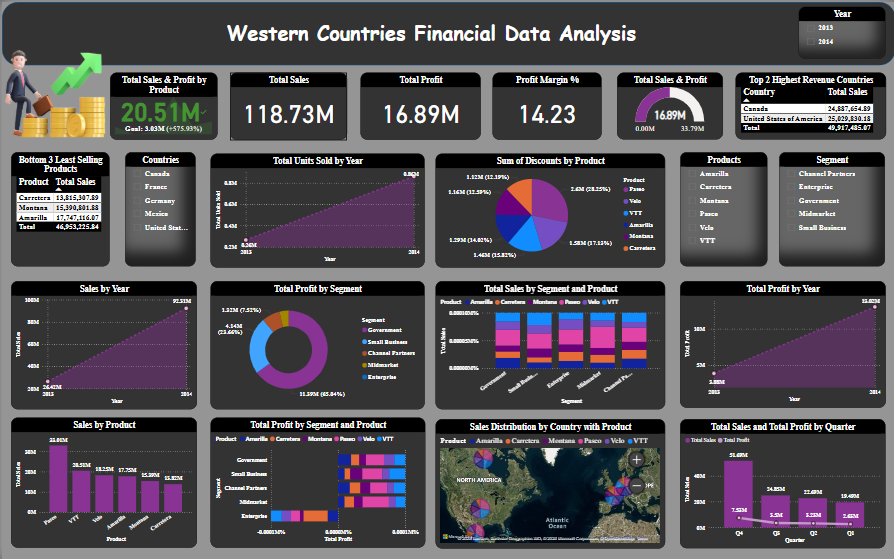

The dashboard page shown, as its layout file describes it:
{"tool":"powerbi","page":{"name":"Dashboard ","canvas":[1920,1200],"ordinal":0},"visuals":[{"type":"shape","title":"Y","box":[0,0,1921.2,136.4],"z":0},{"type":"textbox","box":[386.2,27.6,1072.4,110.3],"z":1000},{"type":"image","box":[0,67.7,232.3,254.8],"z":2000},{"type":"clusteredColumnChart","title":"Sales by Product","fields":{"Y":["financialdata_salesdata.Total Sales"],"Category":["financialdata_salesdata.Product"]},"box":[18,894,400,280],"z":3000},{"type":"lineChart","title":"Sales by Year","fields":{"Category":["financialdata_salesdata.Year"],"Y":["financialdata_salesdata.Total Sales"]},"box":[18,600,400,276],"z":4000},{"type":"lineClusteredColumnComboChart","fields":{"Category":["financialdata_salesdata.Quarter"],"Y":["financialdata_salesdata.Total Sales"],"Y2":["financialdata_salesdata.Total Profit"]},"box":[1458,896,442,278],"z":5000},{"type":"tableEx","title":"Bottom 3 Least Selling Products","fields":{"Values":["financialdata_salesdata.Product","financialdata_salesdata.Total Sales"]},"box":[18,324,212,246],"z":6000},{"type":"donutChart","fields":{"Category":["financialdata_salesdata.Segment"],"Y":["financialdata_salesdata.Total Profit"]},"box":[448.5,600,460.6,275.8],"z":7000},{"type":"hundredPercentStackedBarChart","title":"Total Profit by Segment and Product","fields":{"Category":["financialdata_salesdata.Segment"],"Y":["financialdata_salesdata.Total Profit"],"Series":["financialdata_salesdata.Product"]},"box":[448,894,462,280],"z":8000},{"type":"slicer","title":"Segment","fields":{"Values":["financialdata_salesdata.Segment"]},"box":[1672,324,228,246],"z":9000},{"type":"card","title":"Total Profit","fields":{"Values":["financialdata_salesdata.Total Profit"]},"box":[772.4,151.7,258.6,144.8],"z":10000},{"type":"card","title":"Total Sales","fields":{"Values":["financialdata_salesdata.Total Sales"]},"box":[489.7,151.7,251.7,144.8],"z":11000},{"type":"card","title":"Profit Margin %","fields":{"Values":["financialdata_salesdata.Profit Margin %"]},"box":[1055.2,151.7,234.5,144.8],"z":12000},{"type":"tableEx","title":"Top 2 Highest Revenue Countries","fields":{"Values":["financialdata_salesdata.Country","financialdata_salesdata.Total Sales"]},"box":[1576,152,324,144],"z":13000},{"type":"lineChart","fields":{"Category":["financialdata_salesdata.Year"],"Y":["financialdata_salesdata.Total Units Sold"]},"box":[448.5,324.2,460.6,245.5],"z":14000},{"type":"map","title":"Sales Distribution by Country with Product","fields":{"Series":["financialdata_salesdata.Product"],"Size":["financialdata_salesdata.Total Sales"],"Category":["financialdata_salesdata.Country"]},"box":[933.3,897,493.9,278.8],"z":15000},{"type":"pieChart","fields":{"Category":["financialdata_salesdata.Product"],"Y":["Sum(financialdata_salesdata.Discounts)"]},"box":[933.3,324.2,493.9,245.5],"z":16000},{"type":"hundredPercentStackedColumnChart","fields":{"Category":["financialdata_salesdata.Segment"],"Y":["financialdata_salesdata.Total Sales"],"Series":["financialdata_salesdata.Product"]},"box":[933.3,600,493.9,275.8],"z":17000},{"type":"lineChart","fields":{"Category":["financialdata_salesdata.Year"],"Y":["financialdata_salesdata.Total Profit"]},"box":[1457.6,600,442.4,272.7],"z":18000},{"type":"slicer","title":"Countries ","fields":{"Values":["financialdata_salesdata.Country"]},"box":[266,324,152,246],"z":19000},{"type":"slicer","title":"Products","fields":{"Values":["financialdata_salesdata.Product"]},"box":[1458,324,188,246],"z":20000},{"type":"kpi","title":"Total Sales & Profit by Product","fields":{"Indicator":["financialdata_salesdata.Total Sales"],"Goal":["financialdata_salesdata.Total Profit"],"TrendLine":["financialdata_salesdata.Product"]},"box":[231,151.7,231,144.8],"z":21000},{"type":"gauge","title":"Total Sales & Profit","fields":{"Y":["financialdata_salesdata.Total Profit"],"TargetValue":["financialdata_salesdata.Total Sales"]},"box":[1324,152,228,144],"z":22000},{"type":"slicer","title":"Year","fields":{"Values":["financialdata_salesdata.Year"]},"box":[1712.9,9.7,187.1,112.9],"z":23000}]}

Visuals, with their boxes in screenshot pixels (x1, y1, x2, y2), scaled from the page's 1920x1200 canvas onto the 894x559 screenshot:
"Y" shape: locate(0, 0, 893, 64)
textbox: locate(180, 13, 679, 64)
image: locate(0, 32, 108, 150)
"Sales by Product" clusteredColumnChart: locate(8, 416, 195, 547)
"Sales by Year" lineChart: locate(8, 280, 195, 408)
lineClusteredColumnComboChart - financialdata_salesdata.Quarter x financialdata_salesdata.Total Sales: locate(679, 417, 885, 547)
"Bottom 3 Least Selling Products" tableEx: locate(8, 151, 107, 266)
donutChart - financialdata_salesdata.Segment x financialdata_salesdata.Total Profit: locate(209, 280, 423, 408)
"Total Profit by Segment and Product" hundredPercentStackedBarChart: locate(209, 416, 424, 547)
"Segment" slicer: locate(779, 151, 885, 266)
"Total Profit" card: locate(360, 71, 480, 138)
"Total Sales" card: locate(228, 71, 345, 138)
"Profit Margin %" card: locate(491, 71, 601, 138)
"Top 2 Highest Revenue Countries" tableEx: locate(734, 71, 885, 138)
lineChart - financialdata_salesdata.Year x financialdata_salesdata.Total Units Sold: locate(209, 151, 423, 265)
"Sales Distribution by Country with Product" map: locate(435, 418, 665, 548)
pieChart - financialdata_salesdata.Product x Sum(financialdata_salesdata.Discounts): locate(435, 151, 665, 265)
hundredPercentStackedColumnChart - financialdata_salesdata.Segment x financialdata_salesdata.Total Sales: locate(435, 280, 665, 408)
lineChart - financialdata_salesdata.Year x financialdata_salesdata.Total Profit: locate(679, 280, 885, 407)
"Countries " slicer: locate(124, 151, 195, 266)
"Products" slicer: locate(679, 151, 766, 266)
"Total Sales & Profit by Product" kpi: locate(108, 71, 215, 138)
"Total Sales & Profit" gauge: locate(616, 71, 723, 138)
"Year" slicer: locate(798, 5, 885, 57)
